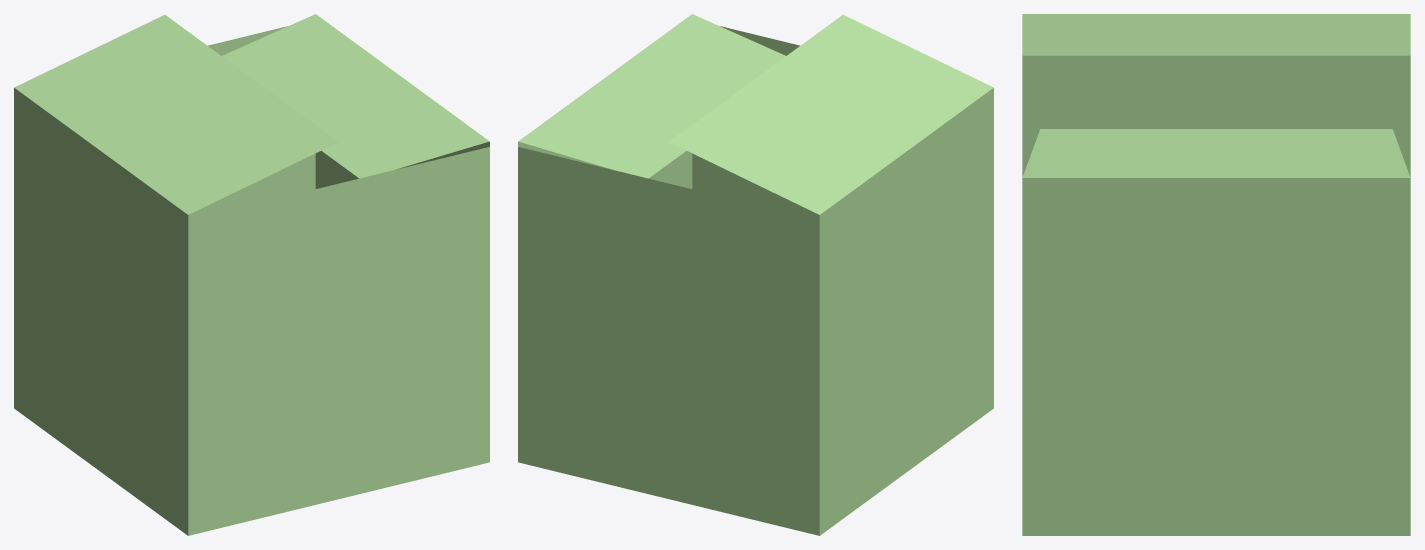
The picture shows the model from 3 angles, left to right: view 1: azimuth 30°, elevation 25°; view 2: azimuth 150°, elevation 25°; view 3: azimuth 270°, elevation 25°; orthographic projection. The views are drawn at different scales.
Visible parts, largest first — view 1: box2; view 2: box2; view 3: box2.
Boxes of the visible parts, x1,y1,x2,y2 form: box2: (14, 14, 489, 535); box2: (518, 14, 993, 535); box2: (1022, 14, 1410, 535).
Bounding box in the file's own units: 0.3769 × 0.4264 × 0.3769.
